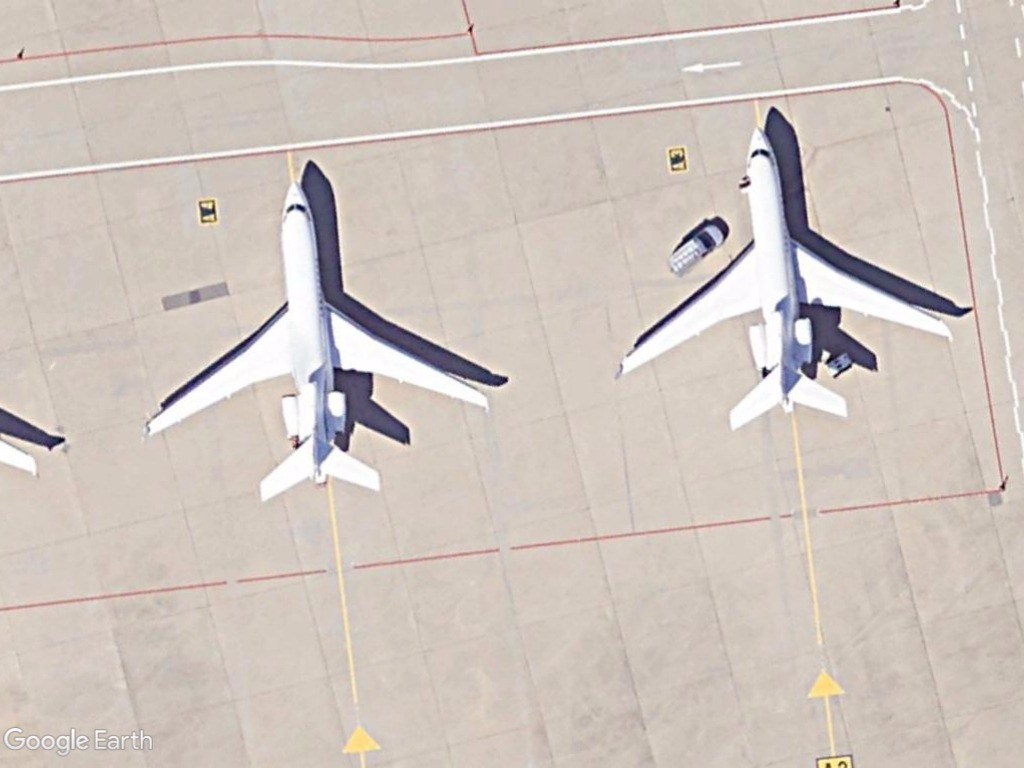chartered: (140, 177, 491, 506), (620, 122, 958, 436)
van: (663, 220, 726, 280)
